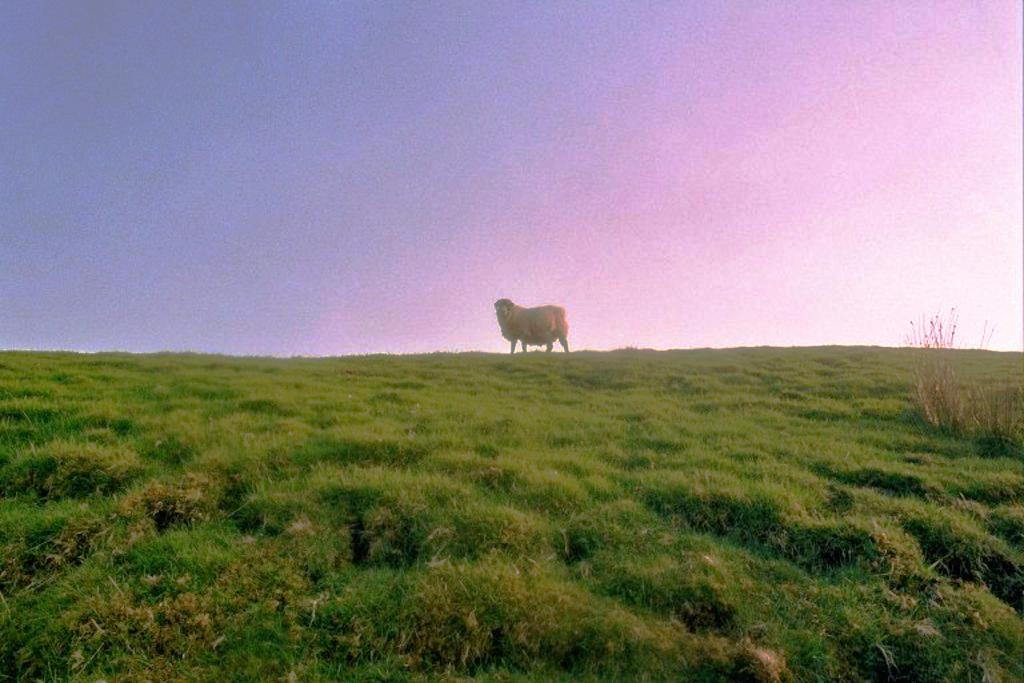Sheep: (490, 294, 574, 355)
